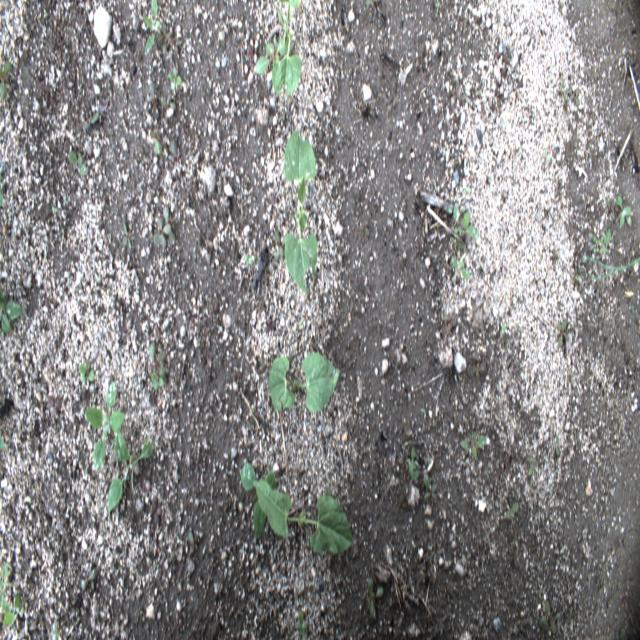crop: (252, 479, 355, 554), (284, 130, 317, 296), (268, 352, 341, 412), (274, 0, 302, 98)
weed: (107, 423, 154, 514), (84, 380, 125, 469), (239, 461, 276, 540), (254, 36, 294, 90), (0, 559, 23, 633), (449, 202, 478, 248), (143, 0, 160, 59), (0, 289, 23, 332), (149, 341, 166, 392), (459, 432, 486, 460), (450, 254, 470, 287), (615, 194, 631, 230), (405, 446, 419, 485), (154, 217, 170, 249), (168, 66, 182, 99), (0, 60, 11, 99), (68, 151, 86, 174), (423, 473, 438, 500), (78, 359, 95, 382), (557, 318, 568, 348), (505, 502, 518, 521)
